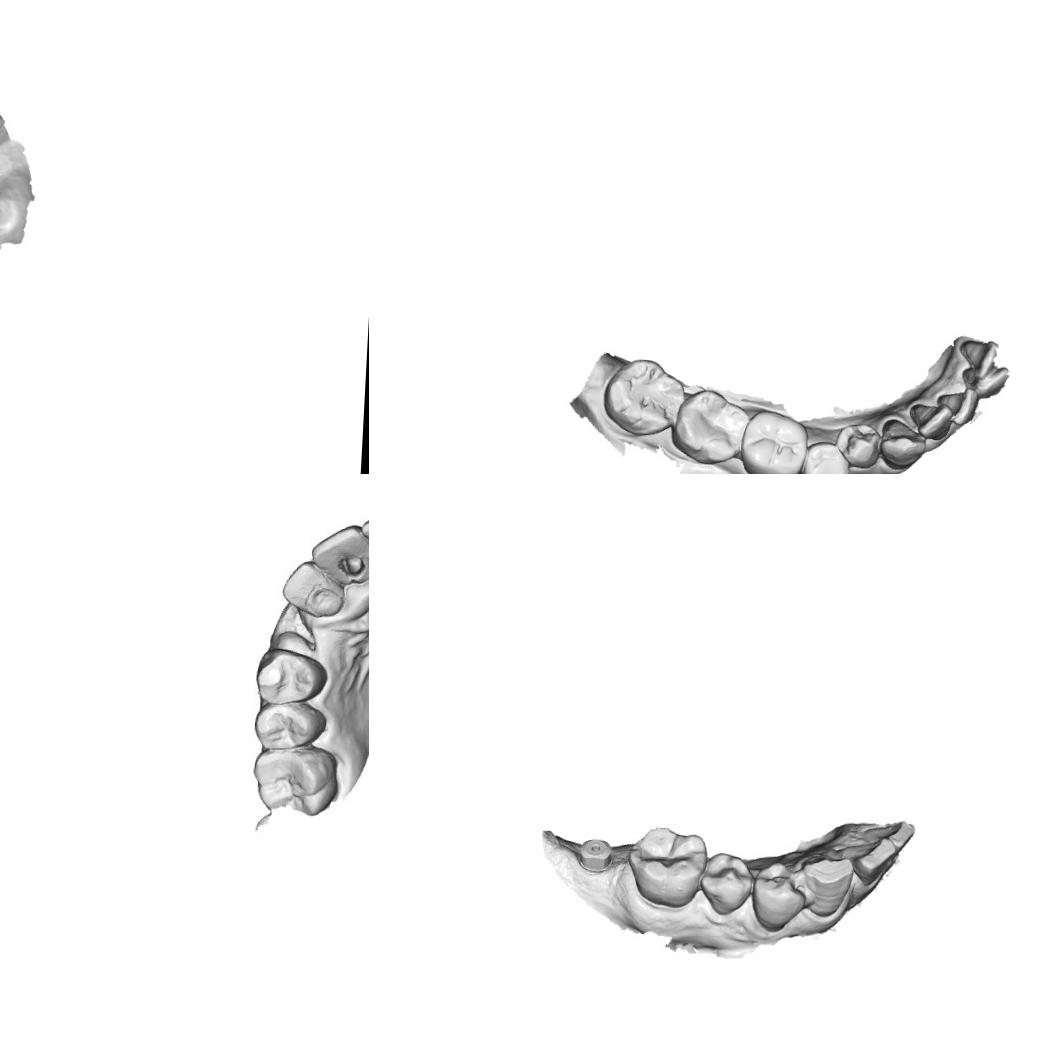canine: (798, 852, 856, 920), (875, 414, 929, 474)
implant: (574, 829, 616, 872)
incisor: (278, 557, 346, 620), (309, 521, 369, 587), (839, 833, 898, 885), (860, 816, 918, 850), (906, 400, 952, 441), (934, 385, 980, 426), (958, 364, 1013, 396), (954, 338, 998, 378)
molar: (620, 822, 708, 911), (598, 354, 688, 439), (249, 741, 340, 816), (668, 386, 753, 466), (738, 405, 812, 474)
premolar: (746, 858, 809, 934), (248, 696, 330, 754), (251, 645, 327, 706), (696, 848, 756, 916), (832, 420, 882, 470), (799, 439, 852, 474)
